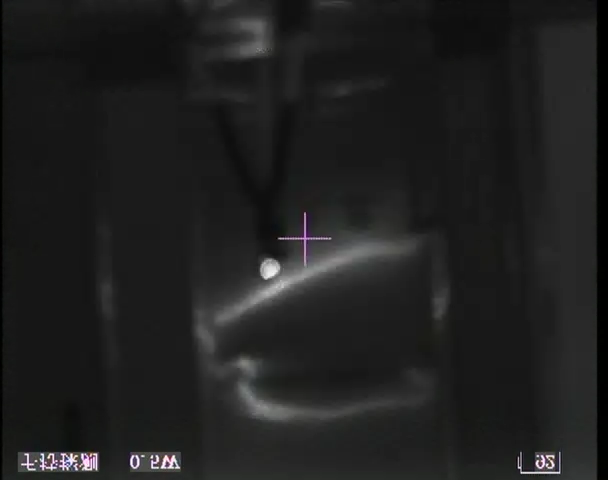my: (258, 255, 283, 281)
